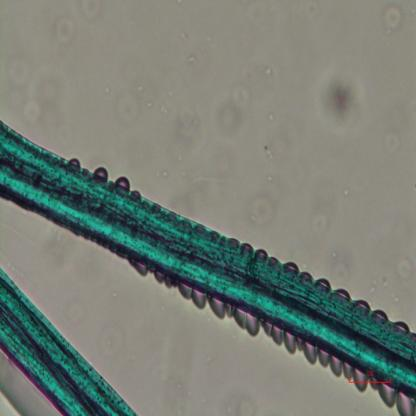Air bubble: (208, 298, 262, 340), (265, 324, 318, 364), (353, 372, 395, 406), (316, 349, 352, 380), (178, 282, 206, 310), (394, 387, 416, 414), (116, 174, 130, 190), (96, 166, 108, 178)
Background material: (0, 49, 65, 120), (82, 310, 129, 366), (320, 66, 363, 126), (214, 84, 255, 134), (324, 234, 354, 282), (110, 87, 152, 121), (173, 30, 209, 67), (247, 186, 277, 229), (380, 2, 407, 37), (310, 212, 340, 236), (54, 16, 78, 46), (390, 254, 412, 283), (156, 97, 174, 121), (264, 148, 277, 170), (262, 67, 274, 79)
Microfibre: (0, 120, 416, 398), (0, 268, 138, 416)
